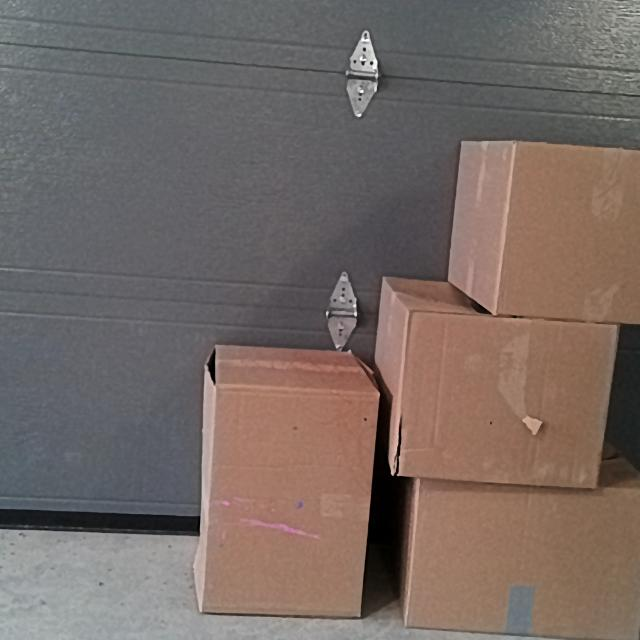box: (207, 387, 371, 612), (407, 479, 640, 632), (393, 316, 615, 475), (503, 141, 640, 324)
